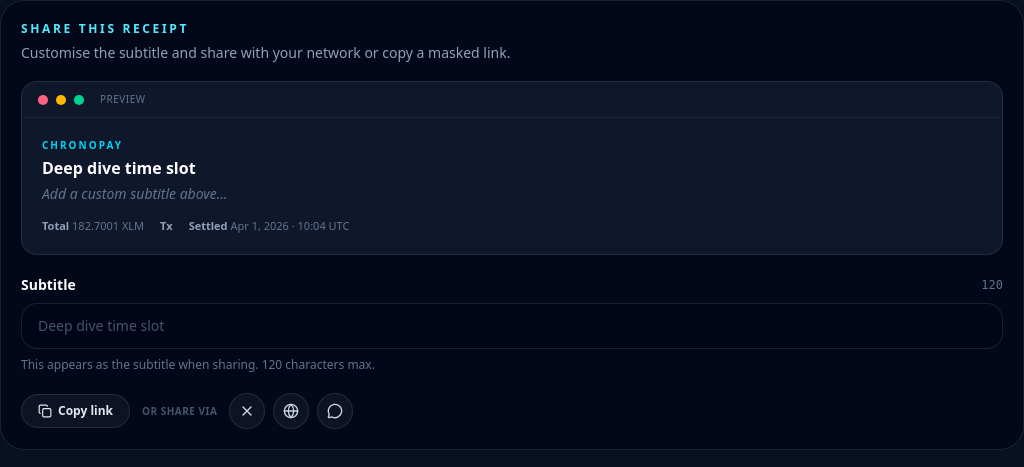
Test: SharePreview › updates character counter as user types
In the field labelled "Subtitle": (512, 326) x1=21 y1=303 x2=1003 y2=349, type "Hello"
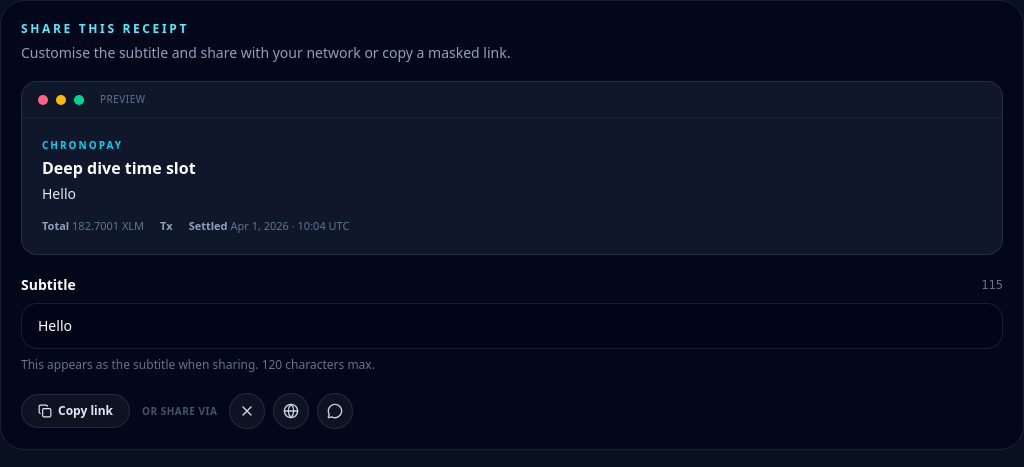
Expected: the text "115" is shown, x1=981 y1=277 x2=1003 y2=293
